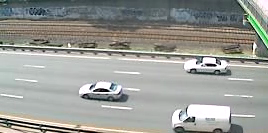car: (169, 102, 233, 133), (181, 55, 232, 78), (76, 80, 126, 103)
